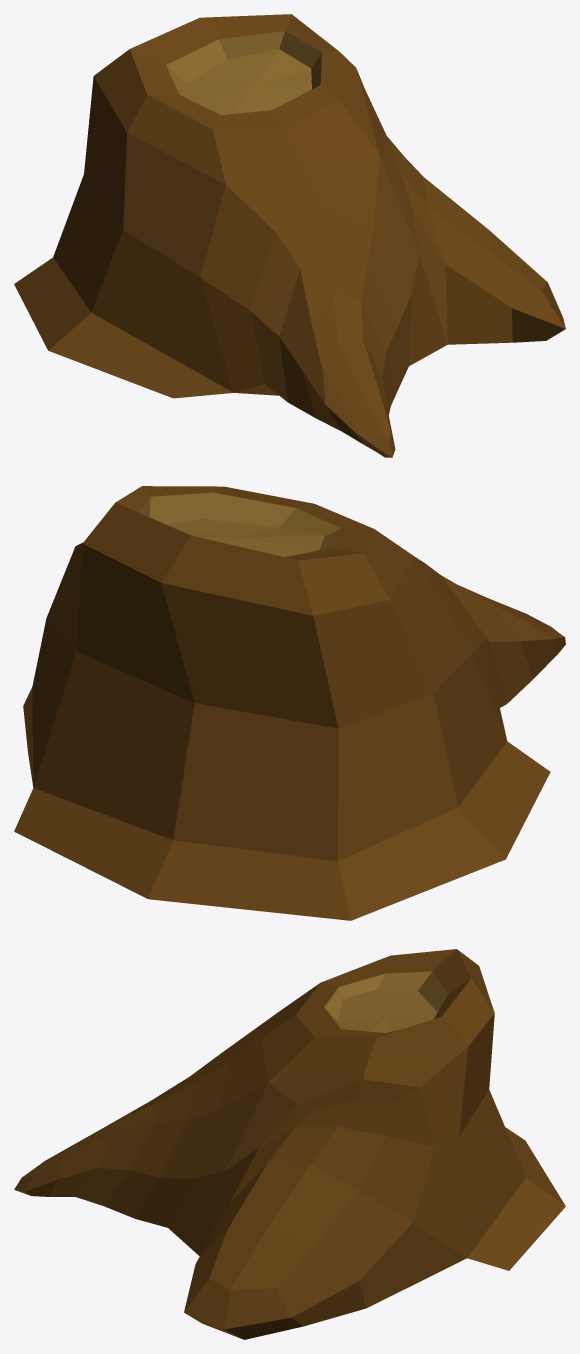
The model's file is result.gltf.
3 views of the same model, one above another, from view 1: azimuth 30°, elevation 25°; view 2: azimuth 150°, elevation 25°; view 3: azimuth 270°, elevation 25° (orthographic). The views are drawn at different scales.
Parts seen in each view (by area): view 1: Log_3; view 2: Log_3; view 3: Log_3.
Part boxes in pixels (left/top/right/bottom): Log_3: left=14, top=14, right=565, bottom=457; Log_3: left=14, top=486, right=565, bottom=920; Log_3: left=14, top=949, right=565, bottom=1339.
Size of the model in its own units: 172 by 105 by 201.
